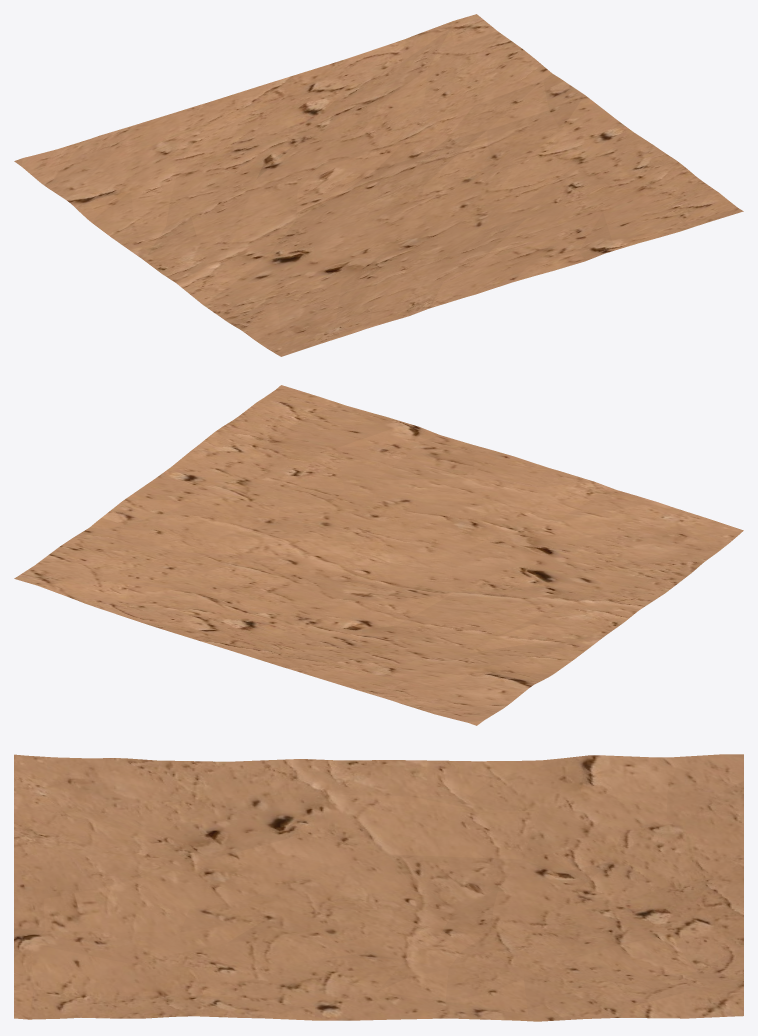
3 renders of one model, top to bottom at view 1: azimuth 30°, elevation 25°; view 2: azimuth 150°, elevation 25°; view 3: azimuth 270°, elevation 25°, orthographic. The views are drawn at different scales.
Size of the model in its own units: 1.04 by 0.0854 by 1.04.
3 materials, 3 textured.
